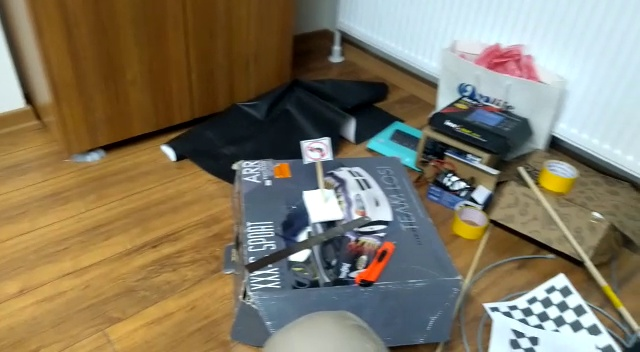sola_donulmez: (304, 140, 329, 161)
